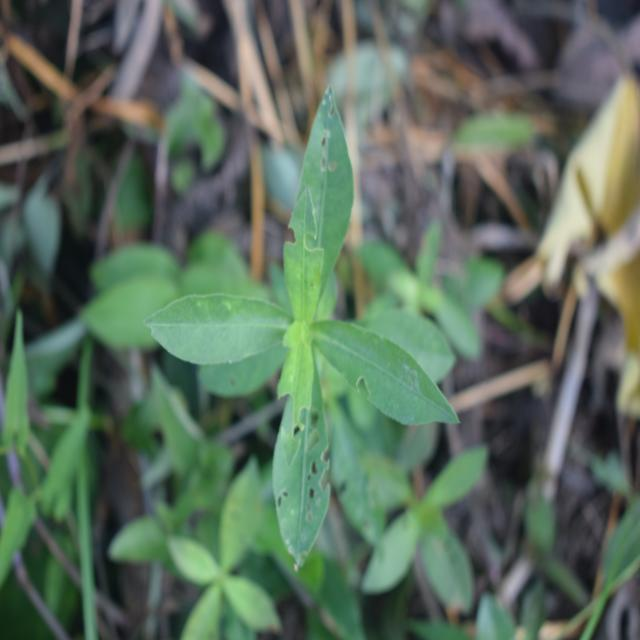Alligatorweed: (149, 101, 451, 544)
